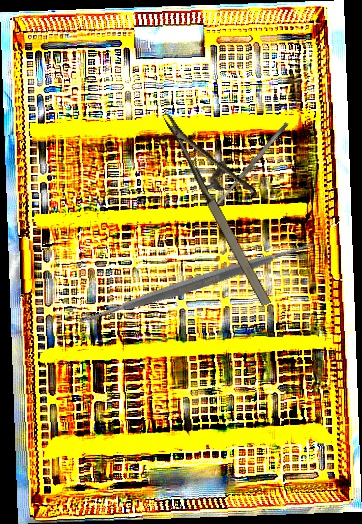Needle Holder: (162, 93, 303, 310)
Spatula Surgical: (65, 151, 327, 414), (211, 120, 291, 210)
